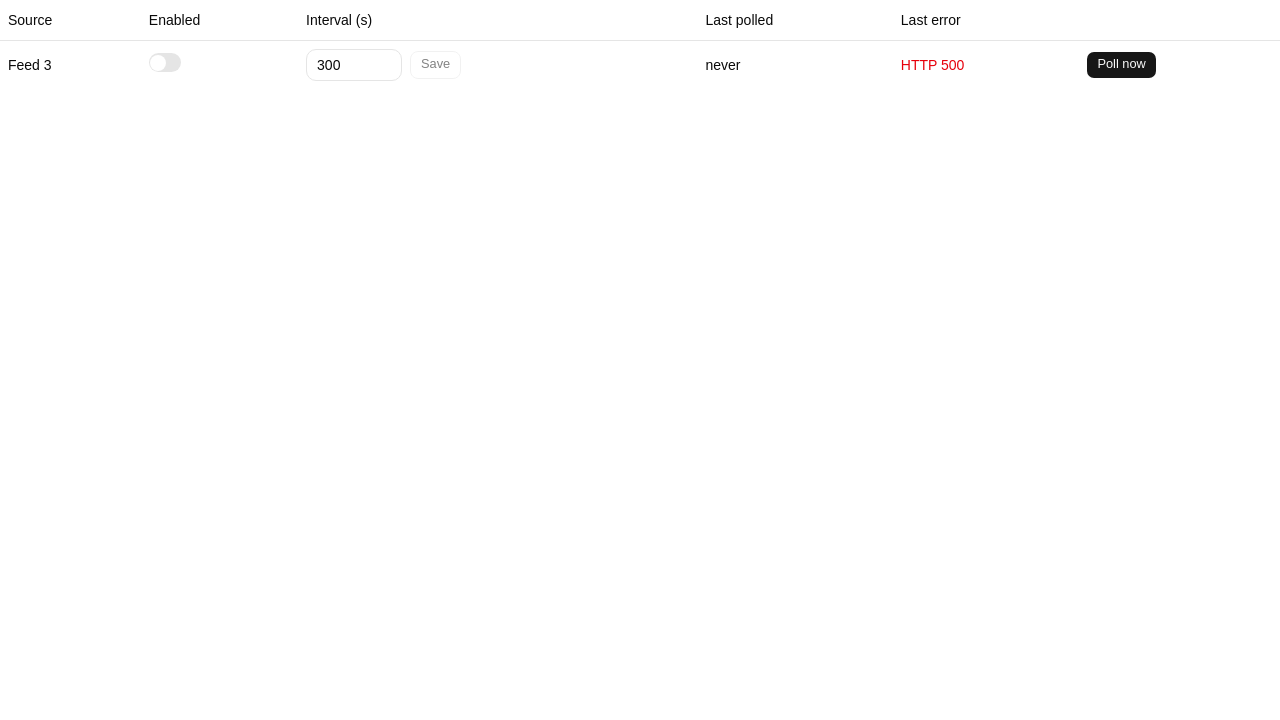
Test: Admin Sources › Poll now posts and toasts the result, success and failure
Expected: the text "HTTP 500" is shown, [893, 40, 1078, 88]
Click the button with aria-label "Poll now 3". click: point(1122, 64)
box: [1086, 50, 1157, 78]
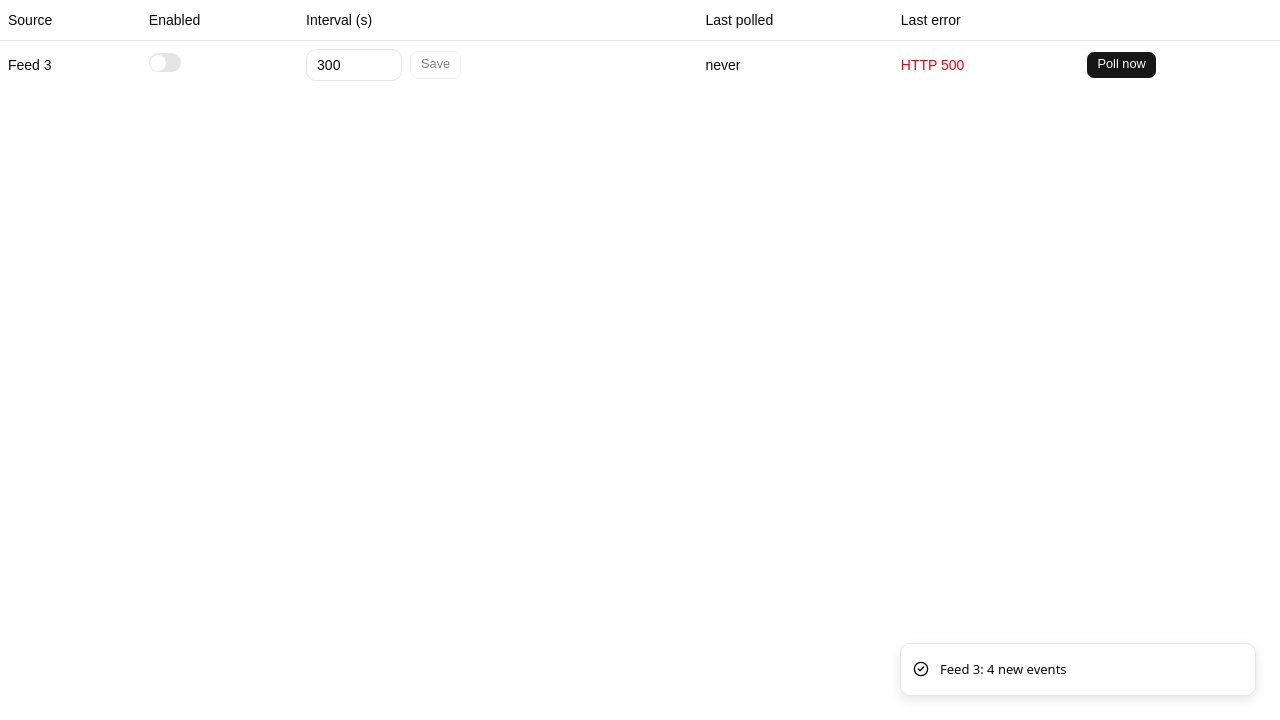
Expected: the text "Feed 3: 4 new events" is shown, [940, 660, 1067, 679]
Click the button with aria-label "Poll now 3". click: point(1122, 64)
box: [1086, 50, 1157, 78]
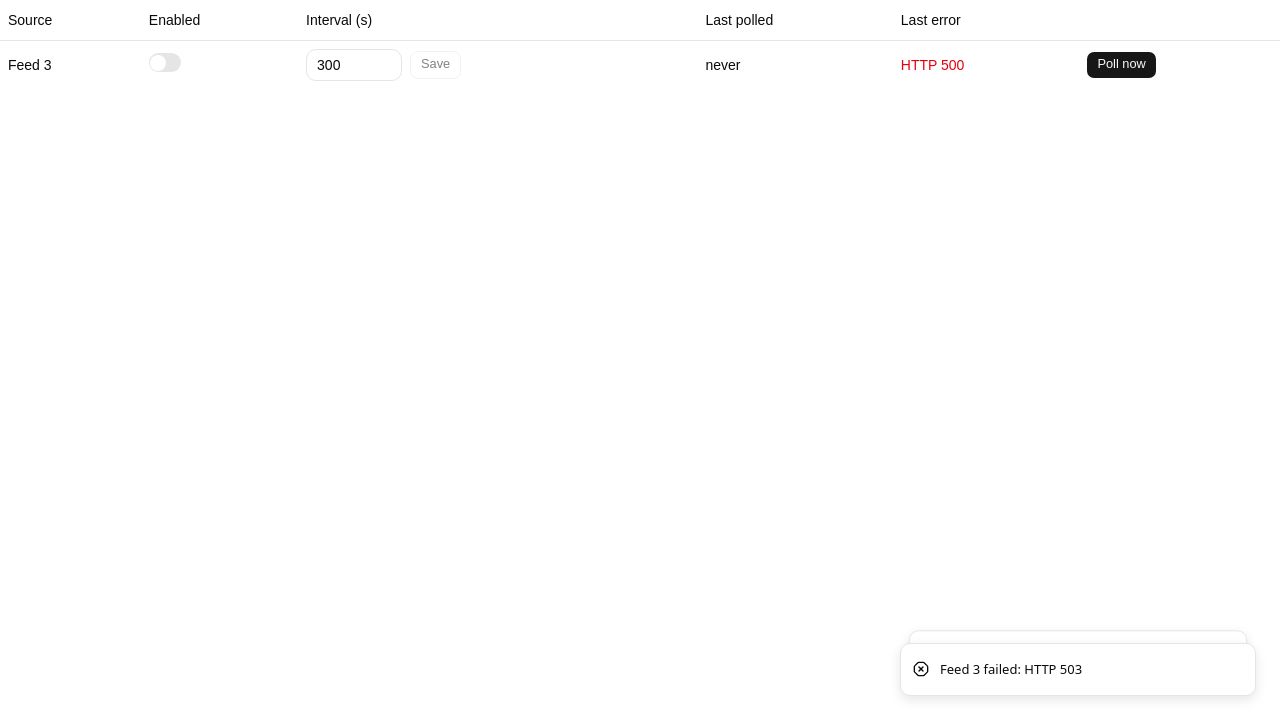
Expected: the text "Feed 3 failed: HTTP 503" is shown, [940, 660, 1082, 679]
